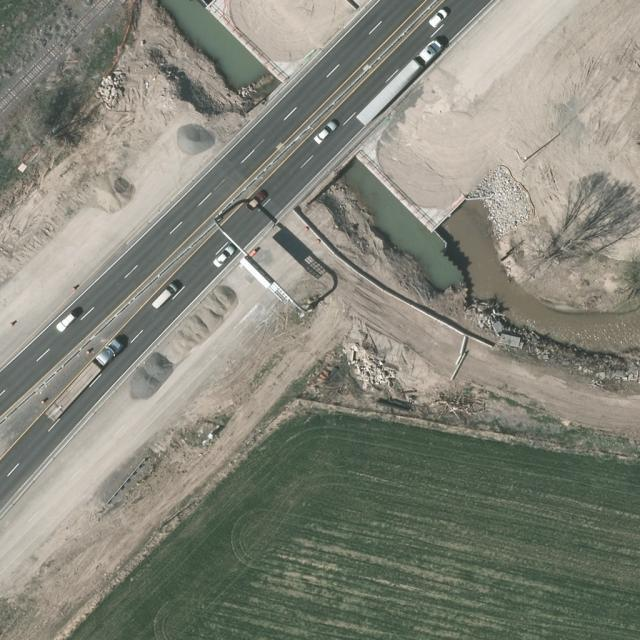vehicle: (354, 41, 444, 128), (41, 338, 125, 423), (150, 284, 178, 312), (210, 244, 238, 268), (314, 120, 338, 146), (245, 192, 268, 212), (428, 9, 448, 29), (56, 314, 76, 332)
